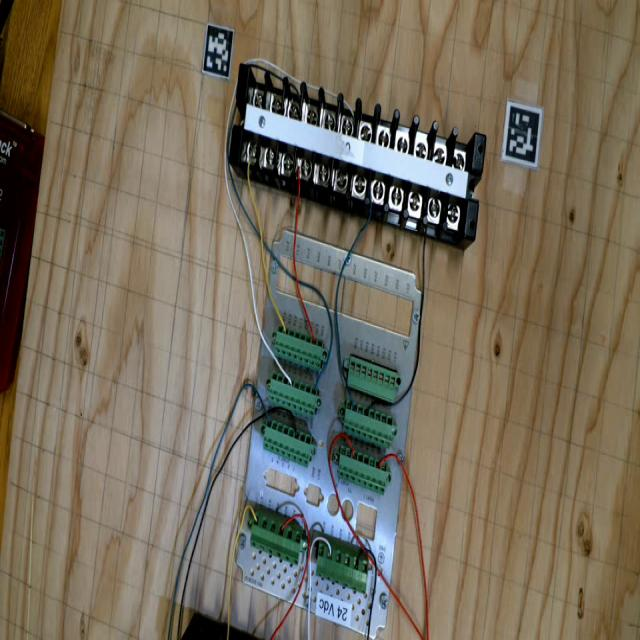Phillips_Block: (211, 57, 506, 239)
Terminal_1: (242, 510, 312, 566), (308, 541, 377, 594)
Terminal_2: (329, 444, 396, 496), (255, 416, 321, 468), (336, 399, 401, 450), (269, 324, 330, 372), (263, 371, 325, 418)
